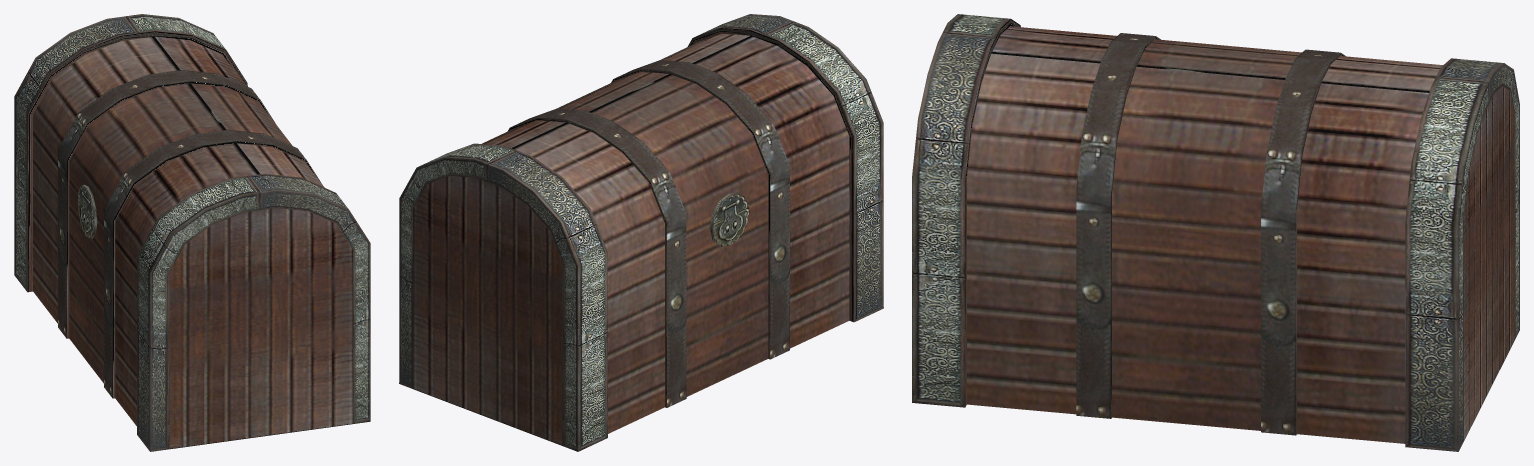
Rendered from chest3.obj.
3 views of the same model, side by side, from view 1: azimuth 30°, elevation 25°; view 2: azimuth 150°, elevation 25°; view 3: azimuth 270°, elevation 25° (orthographic). The views are drawn at different scales.
Visible parts, largest first — view 1: treasure_chest.001; view 2: treasure_chest.001; view 3: treasure_chest.001.
Part boxes in pixels (x1,y1,x2,y2): treasure_chest.001: (14, 14, 370, 451); treasure_chest.001: (399, 14, 883, 451); treasure_chest.001: (912, 14, 1519, 451).
Size of the model in its own units: 0.8676 by 0.7326 by 1.3.
1 material, 1 textured.
